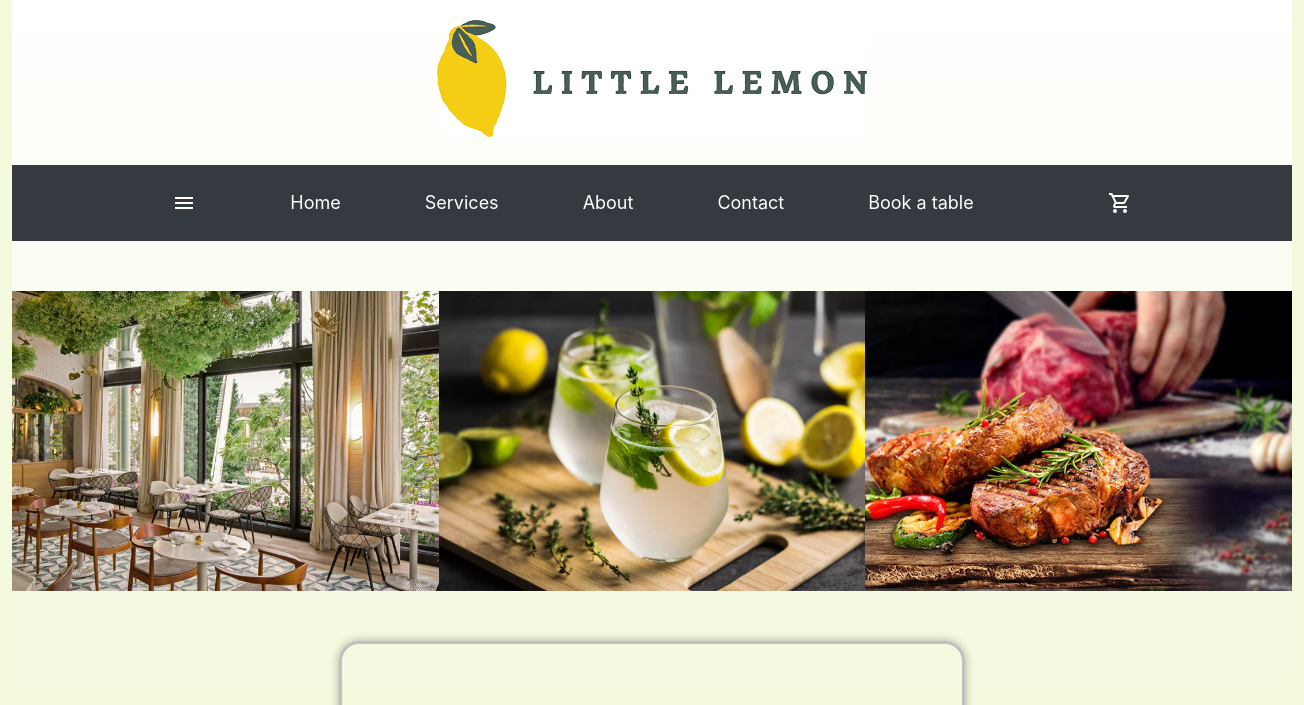
Test: opens menu when menu button is clicked
The image size is (1304, 705).
Click the button named "menu" at (184, 203), box [164,183,204,223]
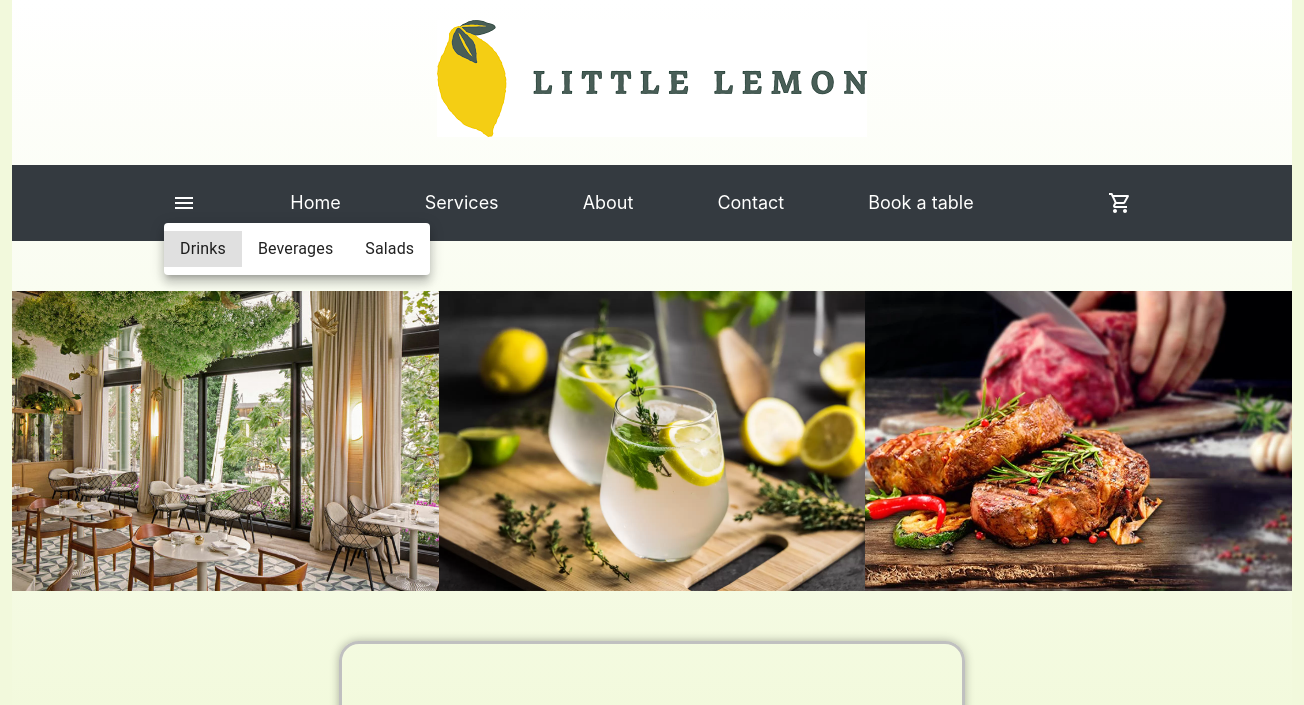
Result: the menu item "Drinks" is shown at [164,231,242,267]
Result: the menu item "Beverages" is shown at [258,239,333,258]
Result: the menu item "Salads" is shown at [365,239,414,258]
